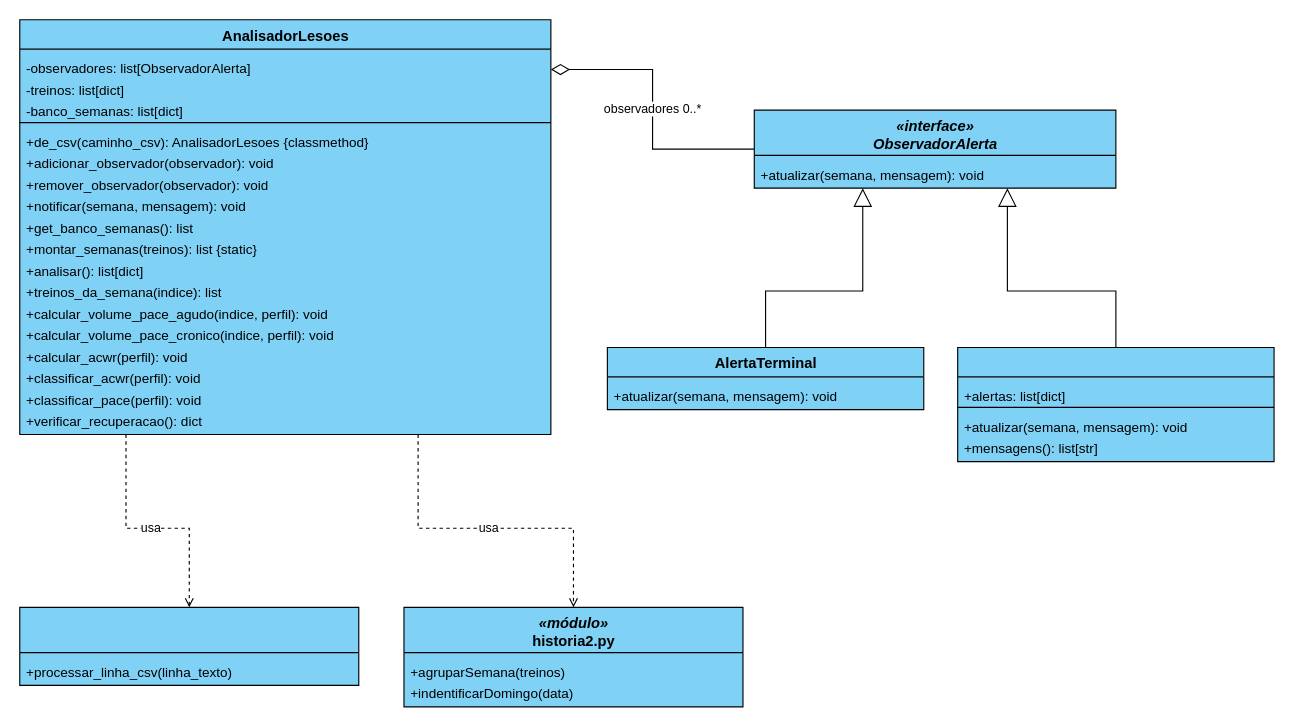
This 1294x727 diagram has some shape labels left out. The box of each missing label's shape, as (x1, y1, x2, y2) in pixels:
ColetorAlertas: (957, 346, 1274, 462)
«módulo» historia1.py: (19, 606, 359, 685)
